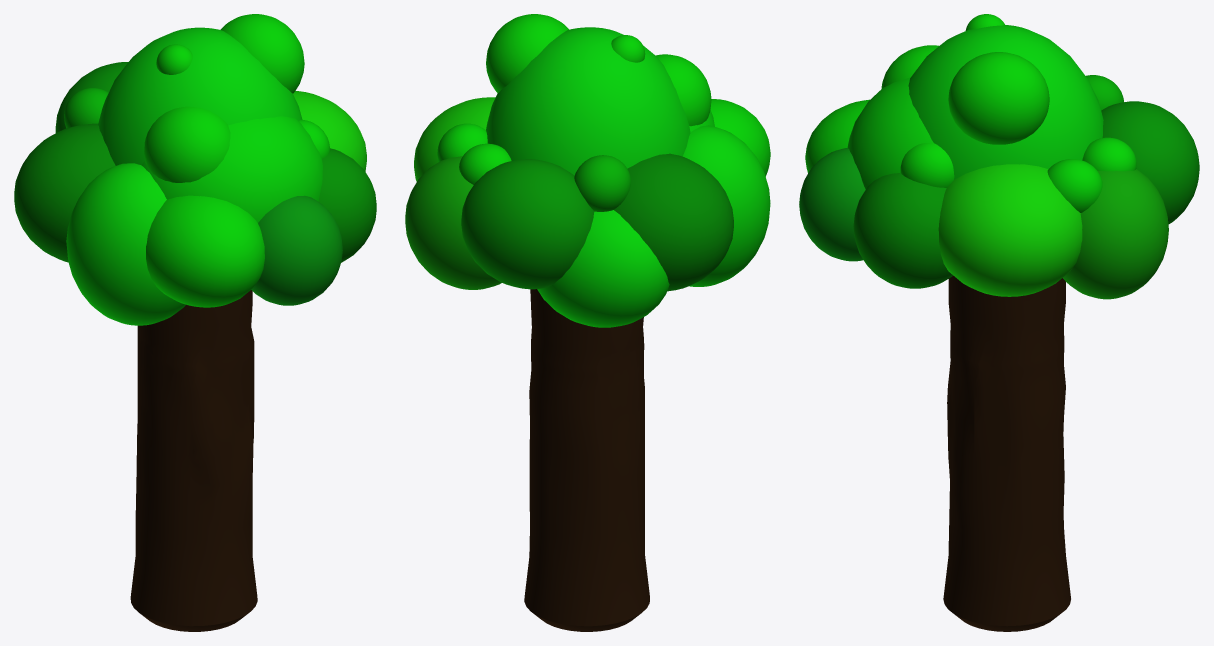
File: tree.obj
The picture shows the model from 3 angles, left to right: view 1: azimuth 30°, elevation 25°; view 2: azimuth 150°, elevation 25°; view 3: azimuth 270°, elevation 25°; orthographic projection.
Visible parts, largest first — view 1: Cylinder, Sphere.003, Sphere.007, Sphere.015, Sphere, Sphere.006, Sphere.001, Sphere.017, Sphere.009, Sphere.016, Sphere.008, Sphere.013 (+3 smaller); view 2: Cylinder, Sphere.003, Sphere.005, Sphere.006, Sphere.004, Sphere.002, Sphere.007, Sphere.016, Sphere.013, Sphere.008, Sphere.017, Sphere.015 (+3 smaller); view 3: Cylinder, Sphere.008, Sphere.003, Sphere.002, Sphere.009, Sphere.016, Sphere.005, Sphere.001, Sphere, Sphere.011, Sphere.015, Sphere.010 (+3 smaller).
Boxes of the visible parts, left/top/right/bottom form: Cylinder: left=130, top=290, right=257, bottom=631; Sphere.003: left=98, top=27, right=302, bottom=165; Sphere.007: left=66, top=163, right=185, bottom=325; Sphere.015: left=146, top=195, right=264, bottom=307; Sphere: left=141, top=116, right=322, bottom=222; Sphere.006: left=14, top=123, right=115, bottom=262; Sphere.001: left=251, top=195, right=342, bottom=305; Sphere.017: left=144, top=106, right=230, bottom=182; Sphere.009: left=318, top=148, right=376, bottom=262; Sphere.016: left=220, top=14, right=304, bottom=93; Sphere.008: left=293, top=91, right=366, bottom=171; Sphere.013: left=64, top=88, right=108, bottom=128; Cylinder: left=524, top=289, right=649, bottom=631; Sphere.003: left=486, top=27, right=690, bottom=175; Sphere.005: left=461, top=159, right=594, bottom=289; Sphere.006: left=614, top=153, right=733, bottom=291; Sphere.004: left=537, top=210, right=669, bottom=327; Sphere.002: left=405, top=156, right=501, bottom=289; Sphere.007: left=683, top=125, right=770, bottom=286; Sphere.016: left=486, top=14, right=568, bottom=92; Sphere.013: left=574, top=155, right=630, bottom=211; Sphere.008: left=414, top=97, right=495, bottom=181; Sphere.017: left=656, top=54, right=711, bottom=126; Sphere.015: left=710, top=99, right=770, bottom=176; Cylinder: left=943, top=275, right=1070, bottom=631; Sphere.008: left=938, top=164, right=1082, bottom=296; Sphere.003: left=908, top=25, right=1103, bottom=179; Sphere.002: left=1063, top=169, right=1168, bottom=299; Sphere.009: left=853, top=173, right=952, bottom=288; Sphere.016: left=948, top=52, right=1049, bottom=144; Sphere.005: left=1101, top=101, right=1199, bottom=224; Sphere.001: left=799, top=148, right=865, bottom=261; Sphere: left=847, top=77, right=933, bottom=189; Sphere.011: left=1047, top=159, right=1102, bottom=212; Sphere.015: left=805, top=99, right=869, bottom=172; Sphere.010: left=900, top=142, right=954, bottom=187.
Size of the model in its own units: 6.3 by 10.94 by 6.82.
